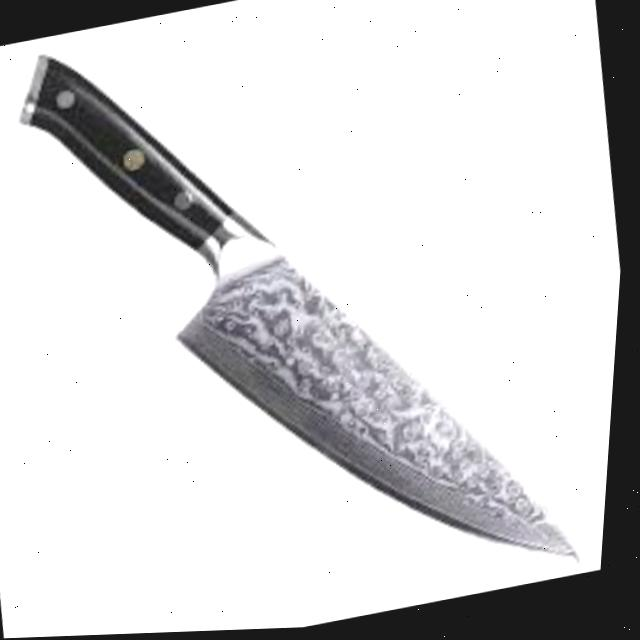Knife: (0, 0, 622, 640)
